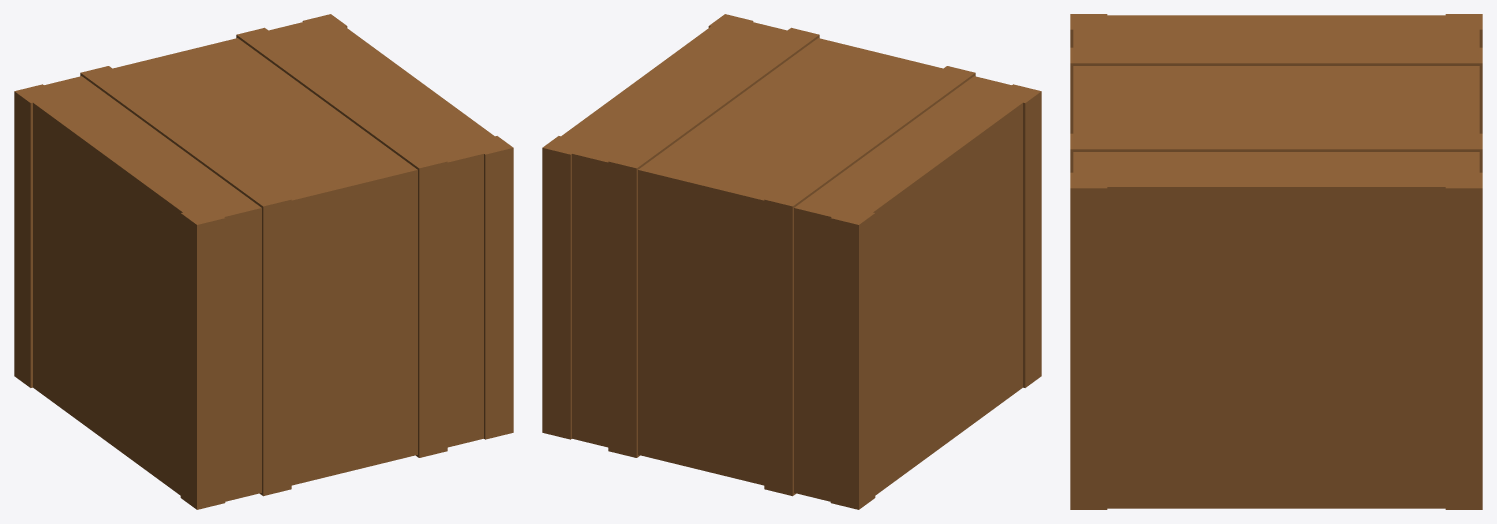
File: parcel50.obj
3 views of the same model, side by side, from view 1: azimuth 30°, elevation 25°; view 2: azimuth 150°, elevation 25°; view 3: azimuth 270°, elevation 25° (orthographic). The views are drawn at different scales.
Visible parts, largest first — view 1: parcel50; view 2: parcel50; view 3: parcel50.
Boxes of the visible parts, bbox=[...] form: parcel50: bbox=[14, 14, 513, 509]; parcel50: bbox=[542, 14, 1041, 509]; parcel50: bbox=[1070, 14, 1482, 509].
Size of the model in its own units: 0.558 by 0.488 by 0.558.
